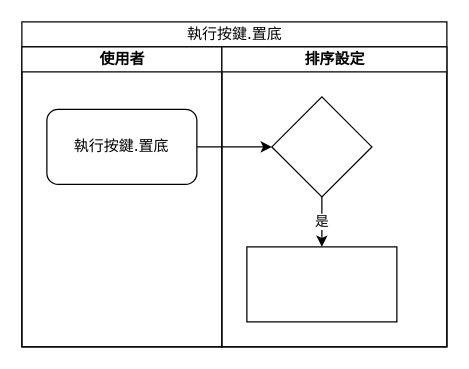
The diagram is 469 pixels wide and 369 high, and some of its shapes have lost their labels. Here are the shapes that lost their labels. From the top down, the centre of each, then its label:
At (321,146): "鎖定欄位是否已置於最底層".
At (321,284): "移至最底層".
